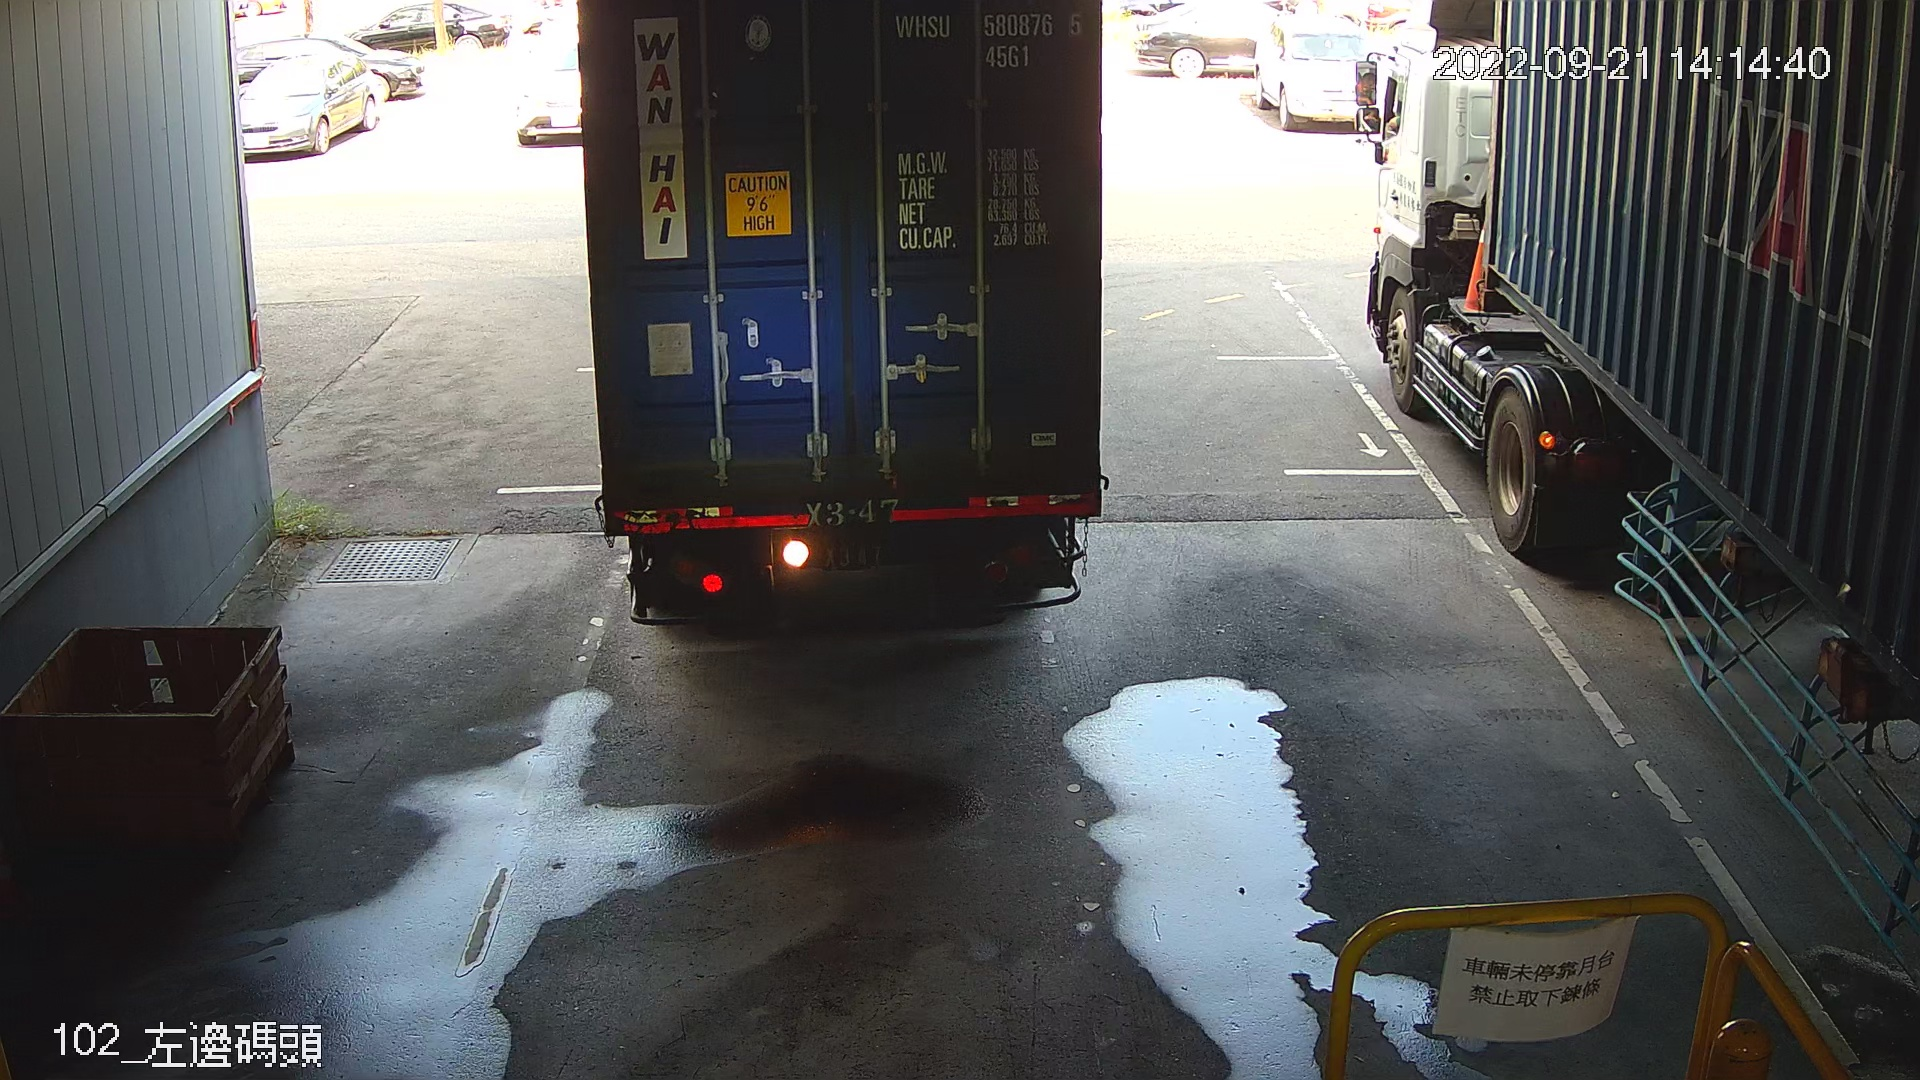container: (887, 4, 1091, 79)
